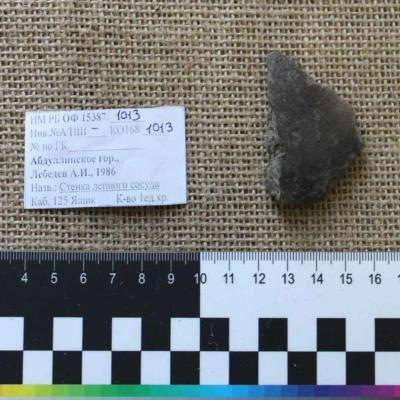archeology: (264, 51, 364, 207)
